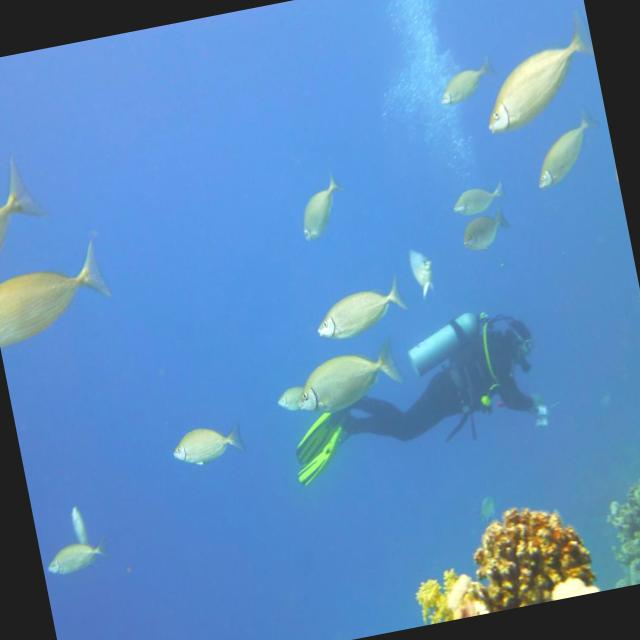Sokar Baligi: (284, 334, 414, 424), (300, 256, 414, 350), (521, 98, 616, 198), (280, 154, 356, 256), (160, 406, 251, 479)
